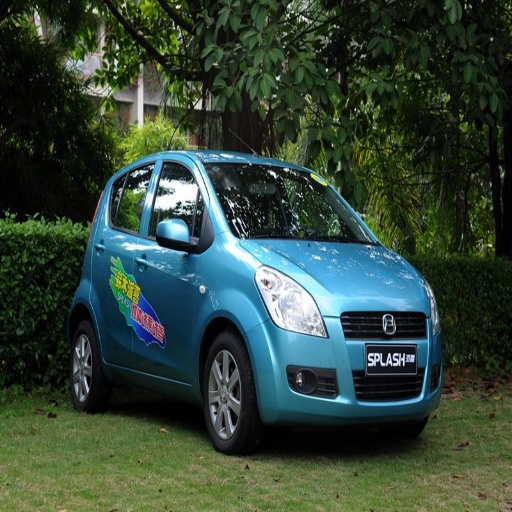front_bumper: (248, 312, 440, 424)
front_right_door: (133, 155, 208, 382)
front_right_light: (256, 267, 326, 337)
